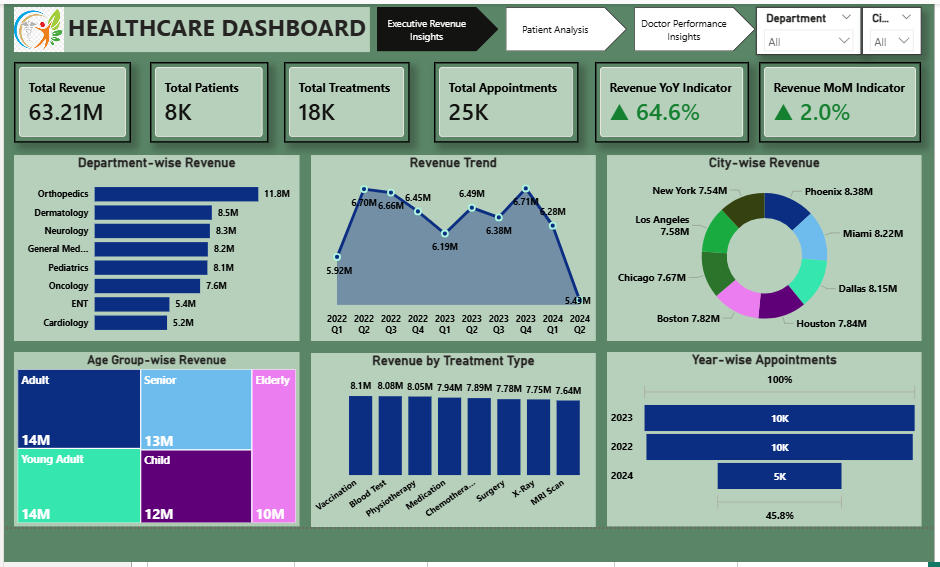

What the dashboard file says about the page in this screenshot:
{"tool":"powerbi","page":{"name":"Executive Revenue Insights","canvas":[1280,720],"ordinal":4},"visuals":[{"type":"funnel","title":"Year-wise Appointments","fields":{"Category":["DateTable.Year"],"Y":["DAX_Measure.Total Appointments"]},"box":[829.4,479.5,433.4,240.5],"z":0},{"type":"areaChart","title":"Revenue Trend","fields":{"Y":["DAX_Measure.Total Revenue"],"Category":["DateTable.YearQuarter"]},"box":[421.9,207.4,391.7,256.3],"z":1000},{"type":"barChart","title":"Department-wise Revenue","fields":{"Category":["Doctors.department"],"Y":["DAX_Measure.Total Revenue"]},"box":[14.4,207.4,393.1,256.3],"z":2000},{"type":"image","box":[13.8,4.1,68.8,61.9],"z":3000},{"type":"textbox","box":[82.6,4.1,421.2,61.9],"z":4000},{"type":"cardVisual","fields":{"Data":["DAX_Measure.Total Revenue"]},"box":[14.4,79.2,161.3,110.9],"z":5000},{"type":"cardVisual","fields":{"Data":["DAX_Measure.Total Patients"]},"box":[201.6,79.2,162.7,110.9],"z":6000},{"type":"cardVisual","fields":{"Data":["DAX_Measure.Total Treatments"]},"box":[385.9,79.2,172.8,110.9],"z":7000},{"type":"cardVisual","fields":{"Data":["DAX_Measure.Total Appointments"]},"box":[591.8,79.2,198.7,110.9],"z":8000},{"type":"donutChart","title":"City-wise Revenue","fields":{"Y":["DAX_Measure.Total Revenue"],"Category":["Patients.city"]},"box":[829.4,207.4,433.4,256.3],"z":9000},{"type":"slicer","title":"Department","fields":{"Values":["Doctors.department"]},"box":[1035.4,4.3,145.4,66.2],"z":10000},{"type":"slicer","title":"Department","fields":{"Values":["Patients.city"]},"box":[1180.8,4.3,82.1,66.2],"z":11000},{"type":"treemap","title":"Age Group-wise Revenue","fields":{"Group":["Patients.age group"],"Values":["DAX_Measure.Total Revenue"]},"box":[14.4,479.5,393.1,240.5],"z":12000},{"type":"columnChart","title":"Revenue by Treatment Type","fields":{"Category":["Treatments.treatment_type"],"Y":["DAX_Measure.Total Revenue"]},"box":[422,480,392,240],"z":13000},{"type":"pageNavigator","box":[513.4,4.1,521.6,61.9],"z":14000},{"type":"cardVisual","fields":{"Data":["DAX_Measure.Revenue YoY Indicator"]},"box":[813.6,79.2,211.7,110.9],"z":15000},{"type":"cardVisual","fields":{"Data":["DAX_Measure.Revenue MoM Indicator"]},"box":[1039.7,79.2,223.2,110.9],"z":16000}]}

Visuals, with their boxes on the page's 1280x720 design canvas (x1, y1, x2, y2). These are canvas units, not pixel positions in the 940x567 screenshot, which may show the page scaled, cropped or inside an application window:
"Year-wise Appointments" funnel: select_region(829, 480, 1263, 720)
"Revenue Trend" areaChart: select_region(422, 207, 814, 464)
"Department-wise Revenue" barChart: select_region(14, 207, 408, 464)
image: select_region(14, 4, 83, 66)
textbox: select_region(83, 4, 504, 66)
cardVisual - DAX_Measure.Total Revenue: select_region(14, 79, 176, 190)
cardVisual - DAX_Measure.Total Patients: select_region(202, 79, 364, 190)
cardVisual - DAX_Measure.Total Treatments: select_region(386, 79, 559, 190)
cardVisual - DAX_Measure.Total Appointments: select_region(592, 79, 790, 190)
"City-wise Revenue" donutChart: select_region(829, 207, 1263, 464)
"Department" slicer: select_region(1035, 4, 1181, 70)
"Department" slicer: select_region(1181, 4, 1263, 70)
"Age Group-wise Revenue" treemap: select_region(14, 480, 408, 720)
"Revenue by Treatment Type" columnChart: select_region(422, 480, 814, 720)
pageNavigator: select_region(513, 4, 1035, 66)
cardVisual - DAX_Measure.Revenue YoY Indicator: select_region(814, 79, 1025, 190)
cardVisual - DAX_Measure.Revenue MoM Indicator: select_region(1040, 79, 1263, 190)
